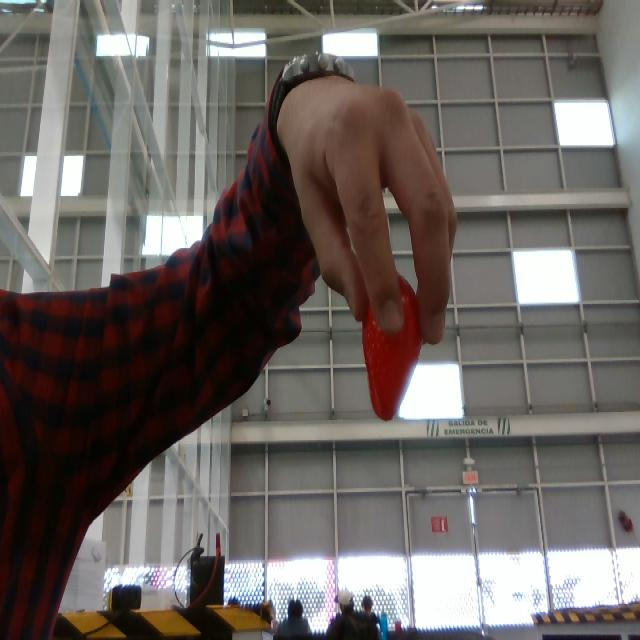grande_roja: (362, 276, 421, 419)
